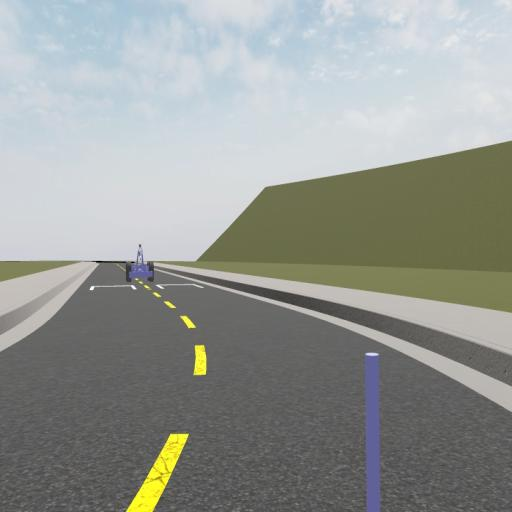ERP-42: (126, 243, 155, 283)
